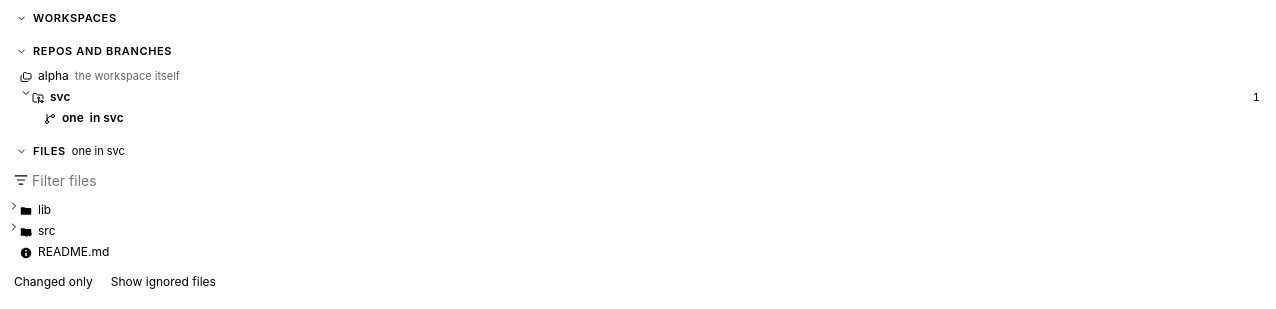
Test: what a branch changed, in the explorer › says when a branch changed nothing
The image size is (1276, 309).
Click the button "Changed only": (53, 282) [8,271,99,292]
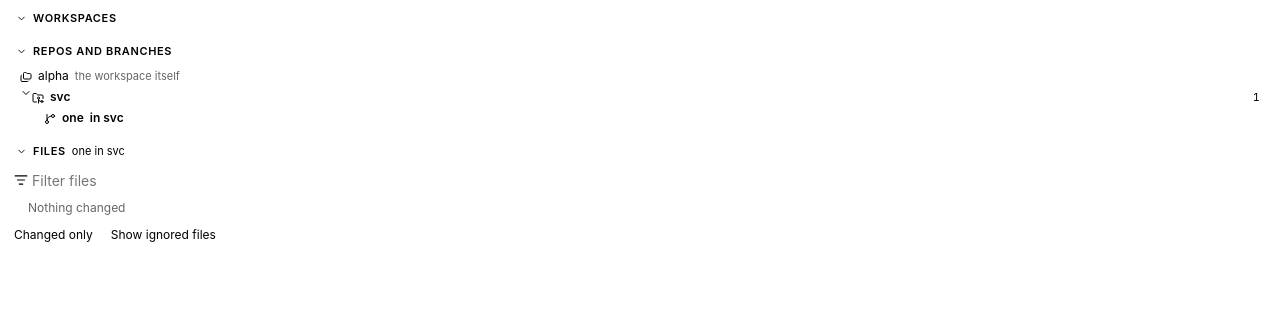
Expected: the text "Nothing changed" is shown, [28,200,126,215]
